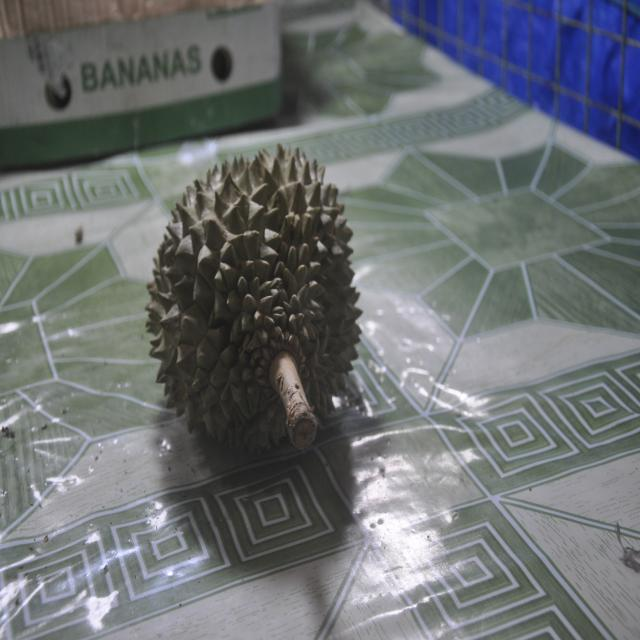mature: (146, 146, 360, 449)
